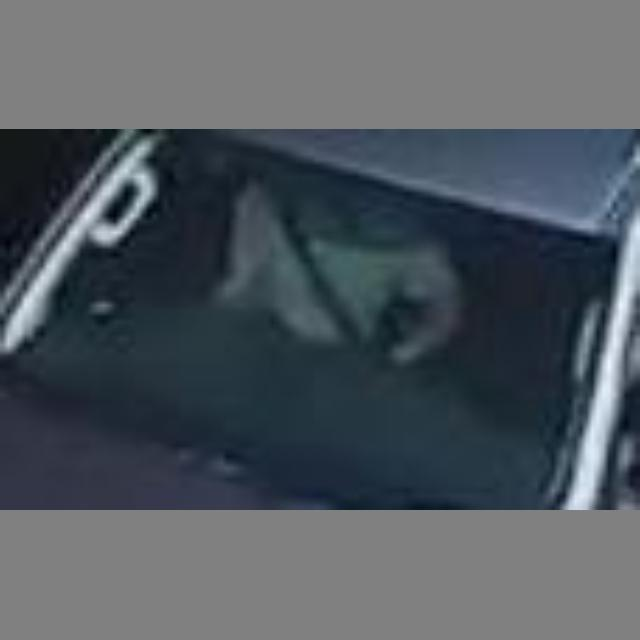pakai: (202, 174, 432, 370)
